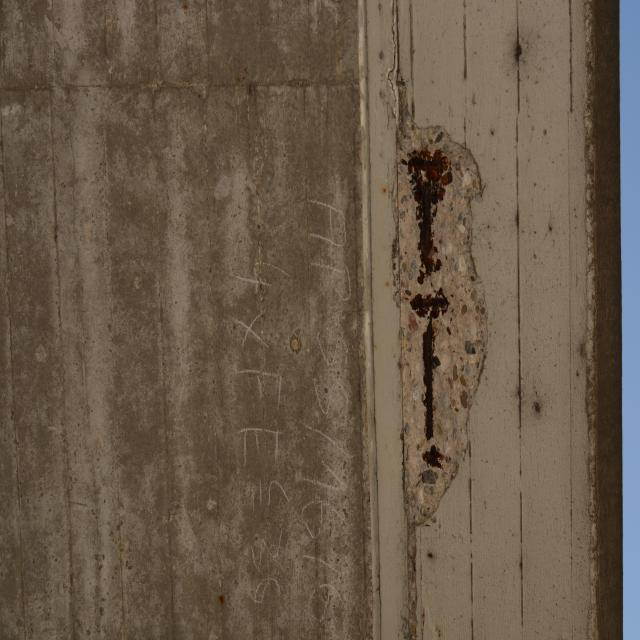corrosion: (401, 135, 459, 471)
